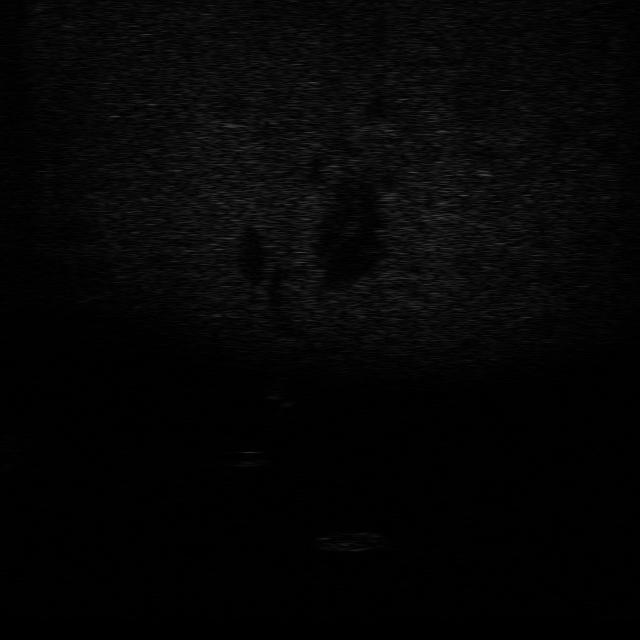ball: (224, 444, 268, 471)
circle cage: (312, 526, 388, 554)
human body: (258, 362, 296, 428)
